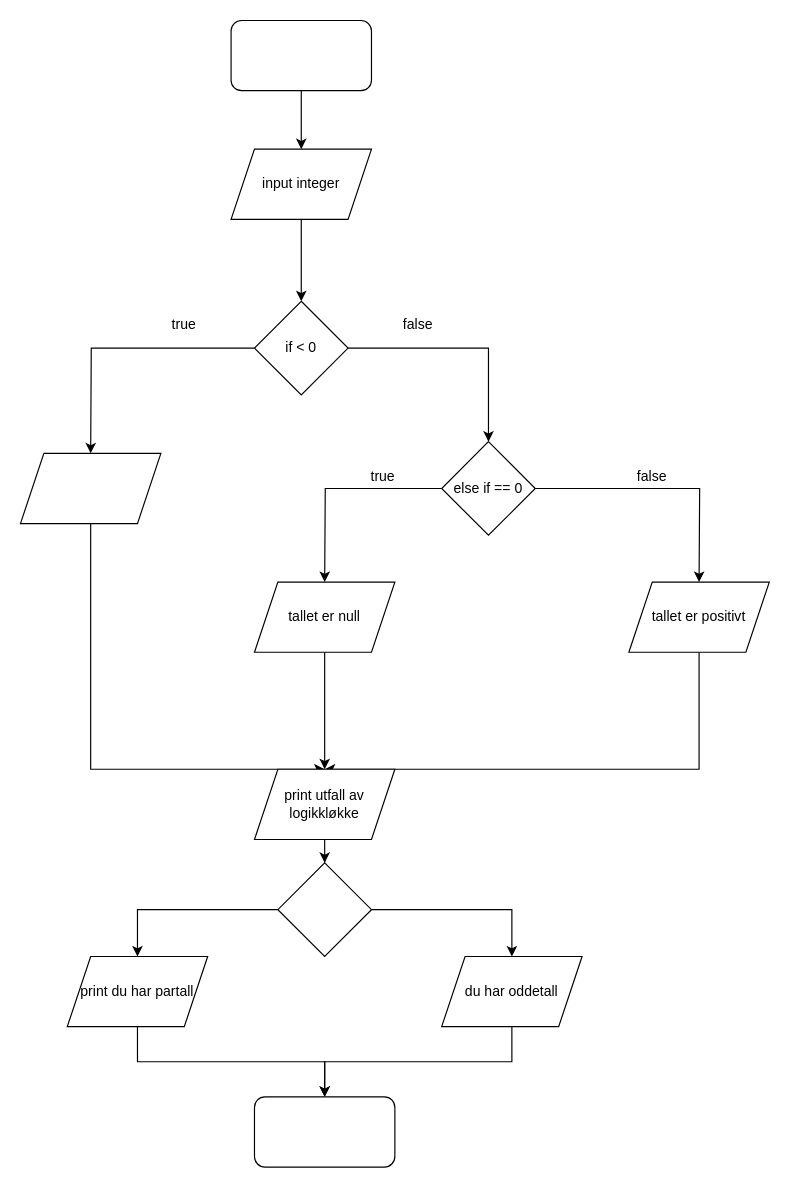
This 790x1188 diagram has some shape labels left out. Here are the shapes that lost their labels. From the top down, the centre of each, then its label:
At (x=300, y=55): "start".
At (x=90, y=488): "tallet er negativt".
At (x=324, y=909): "partall?".
At (x=324, y=1131): "fin".
